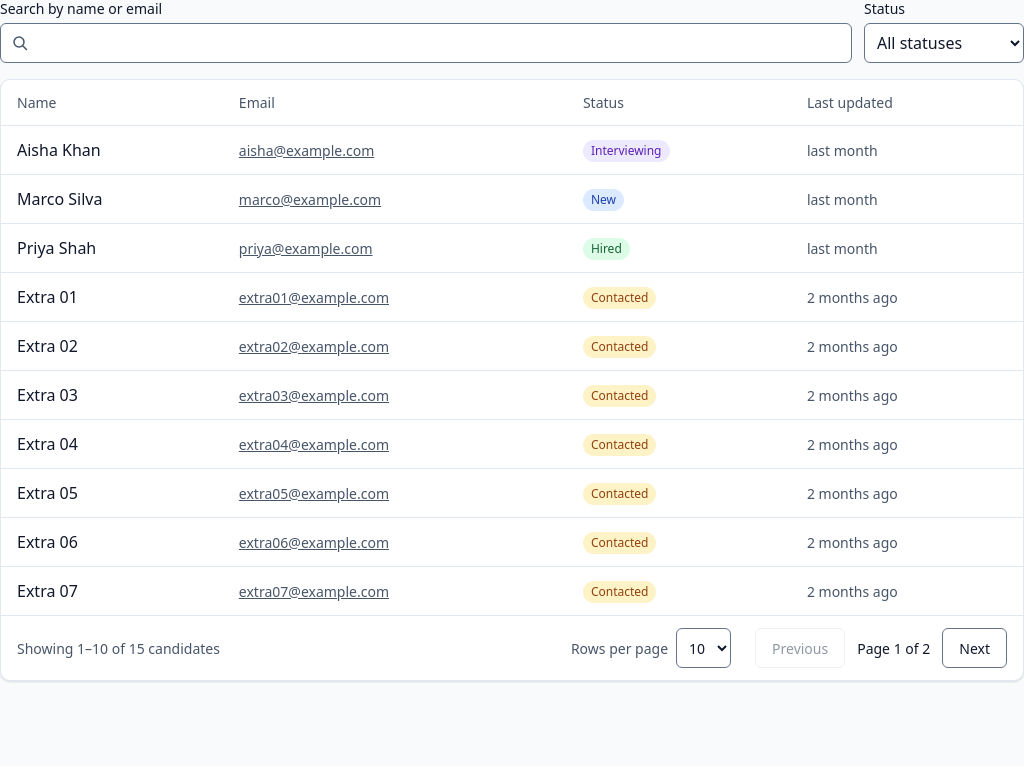
Test: CandidateSearch › page size › requests the chosen size from page 1
Expected: the text "Aisha Khan" is shown, [1,126,223,174]
Click the button "Next".
click(975, 648)  # box [942,628,1007,668]
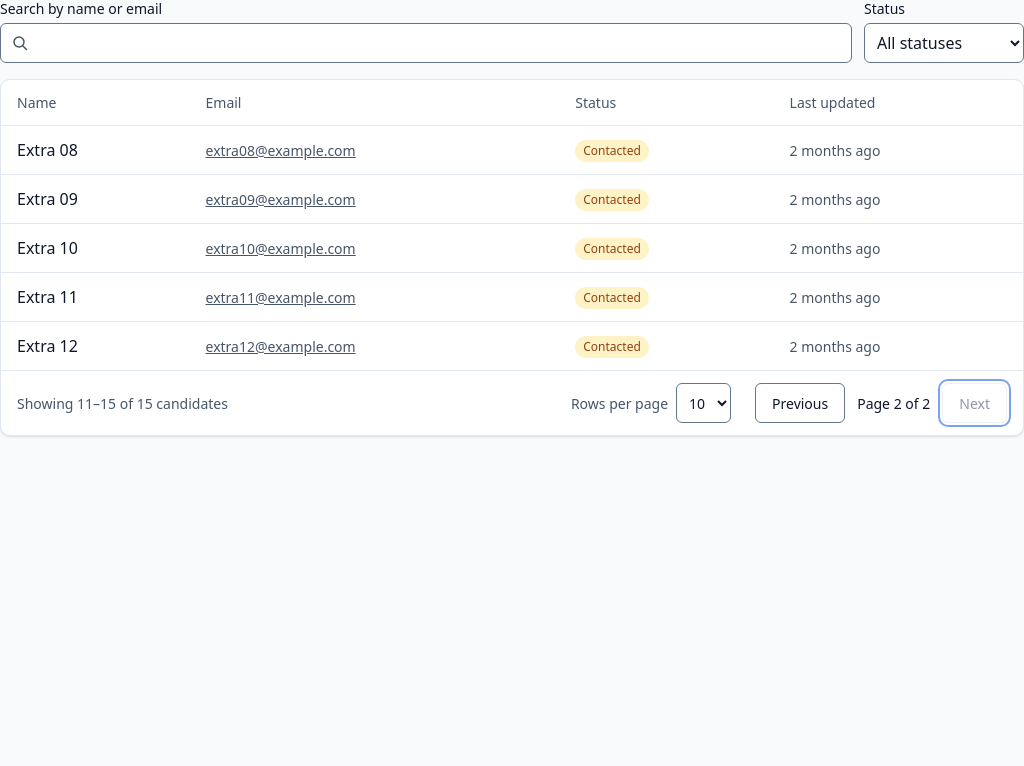
Expected: the text "Extra 08" is shown, [1,126,190,174]
Select "25" in the dropdown labelled "Rows per page" at (704, 403), box [676,383,731,423]
(page scrolled)
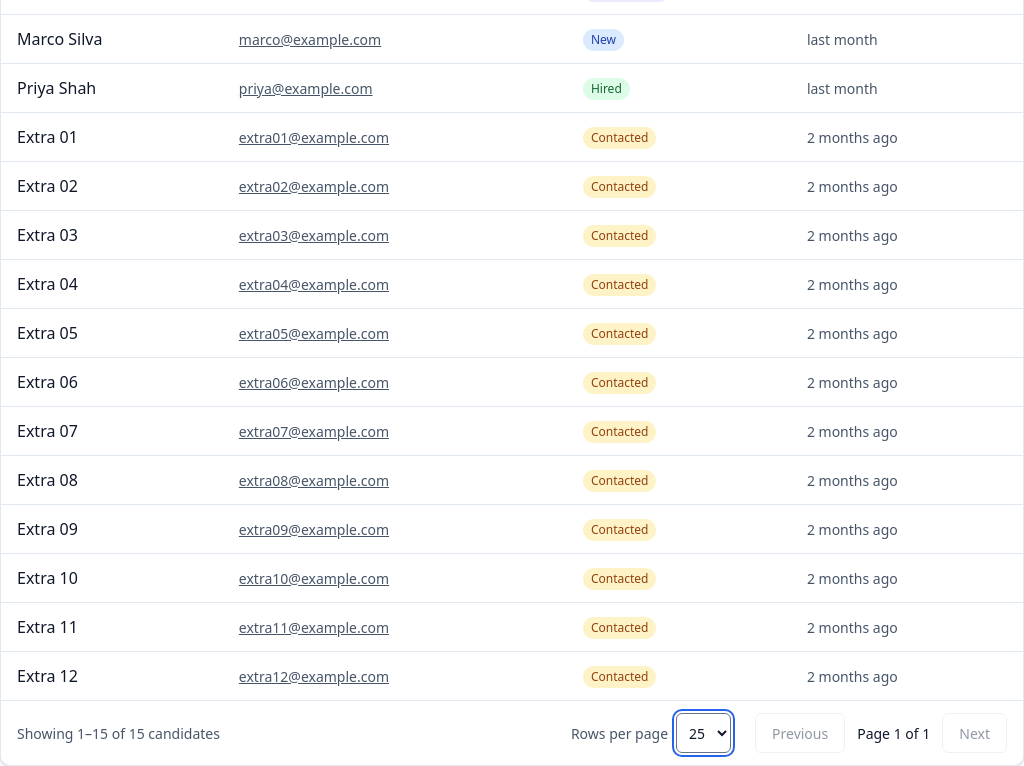
Expected: the text "Showing 1–15 of 15 candidates" is shown, [17,722,220,744]
Expected: the text "Page 1 of 1" is shown, [857,722,930,744]
